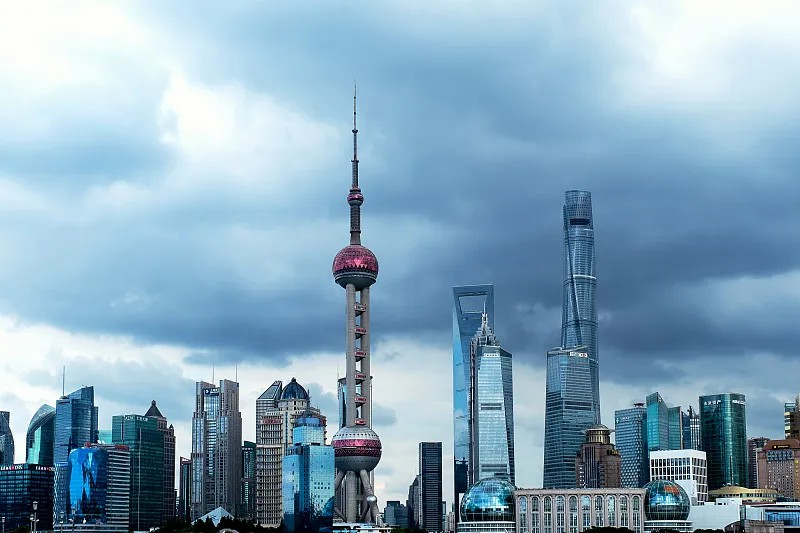Oriental: (331, 82, 382, 519)
